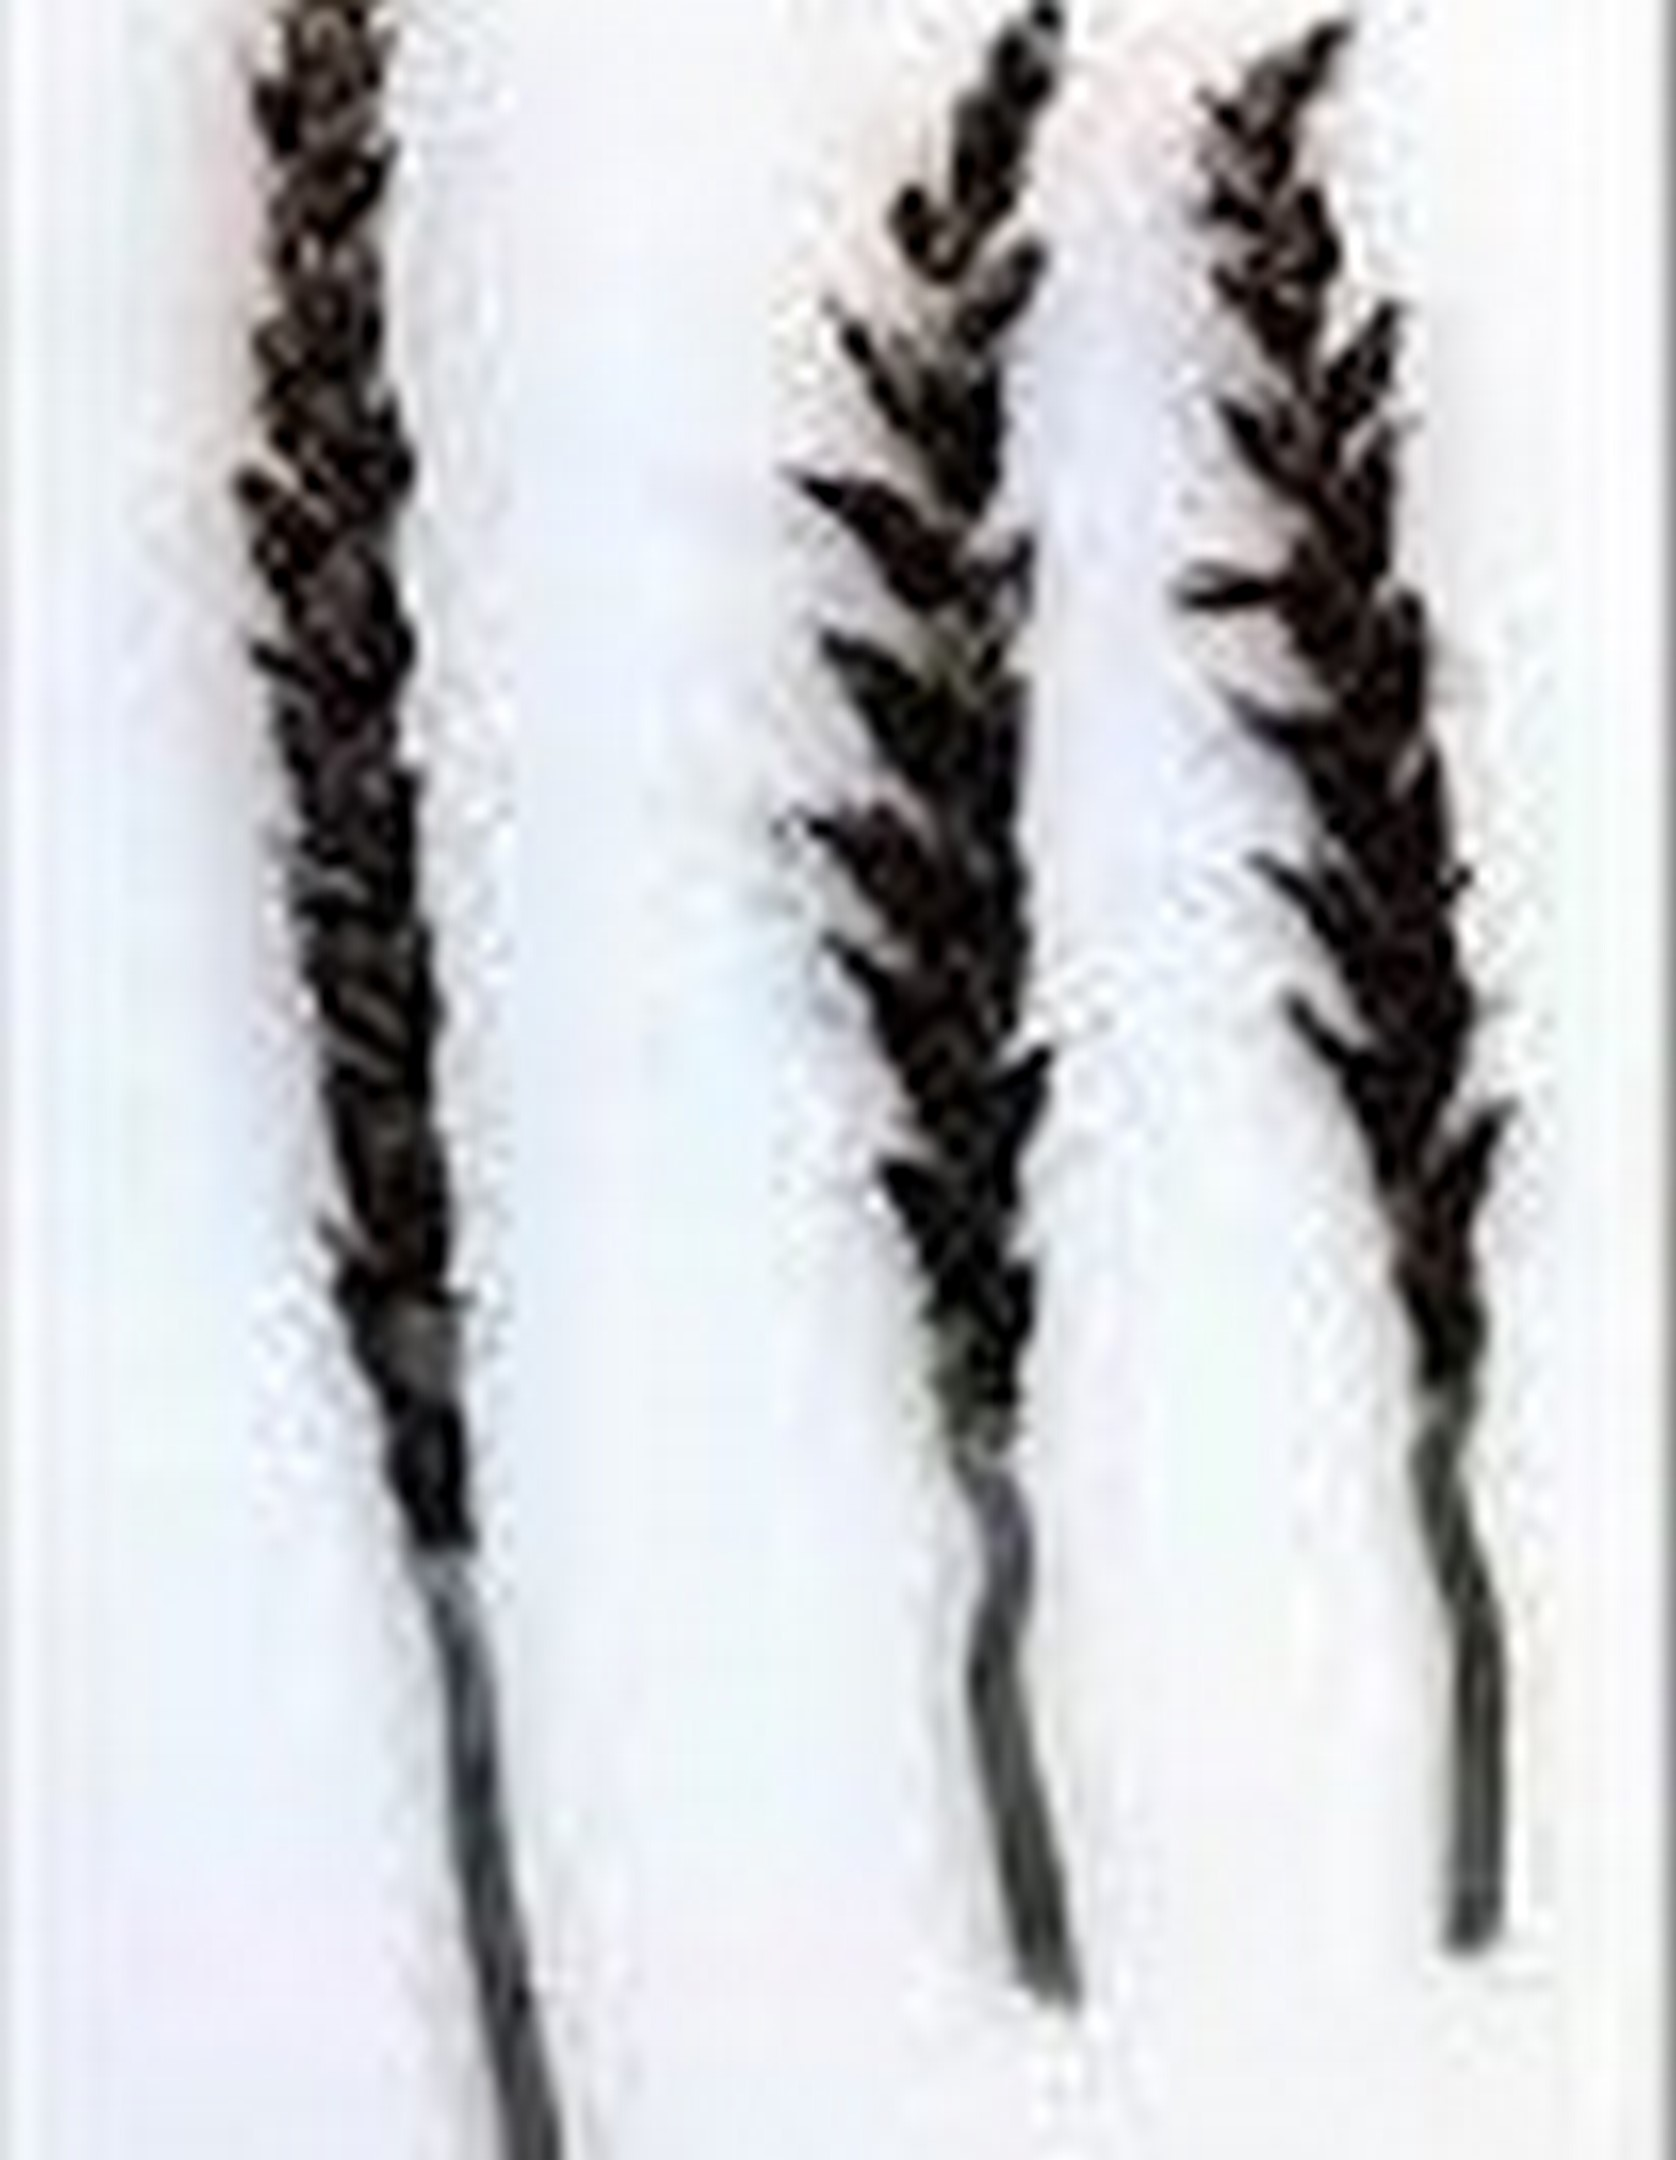Wheat Loose Smut: (736, 56, 1625, 1287), (179, 68, 605, 1483)
